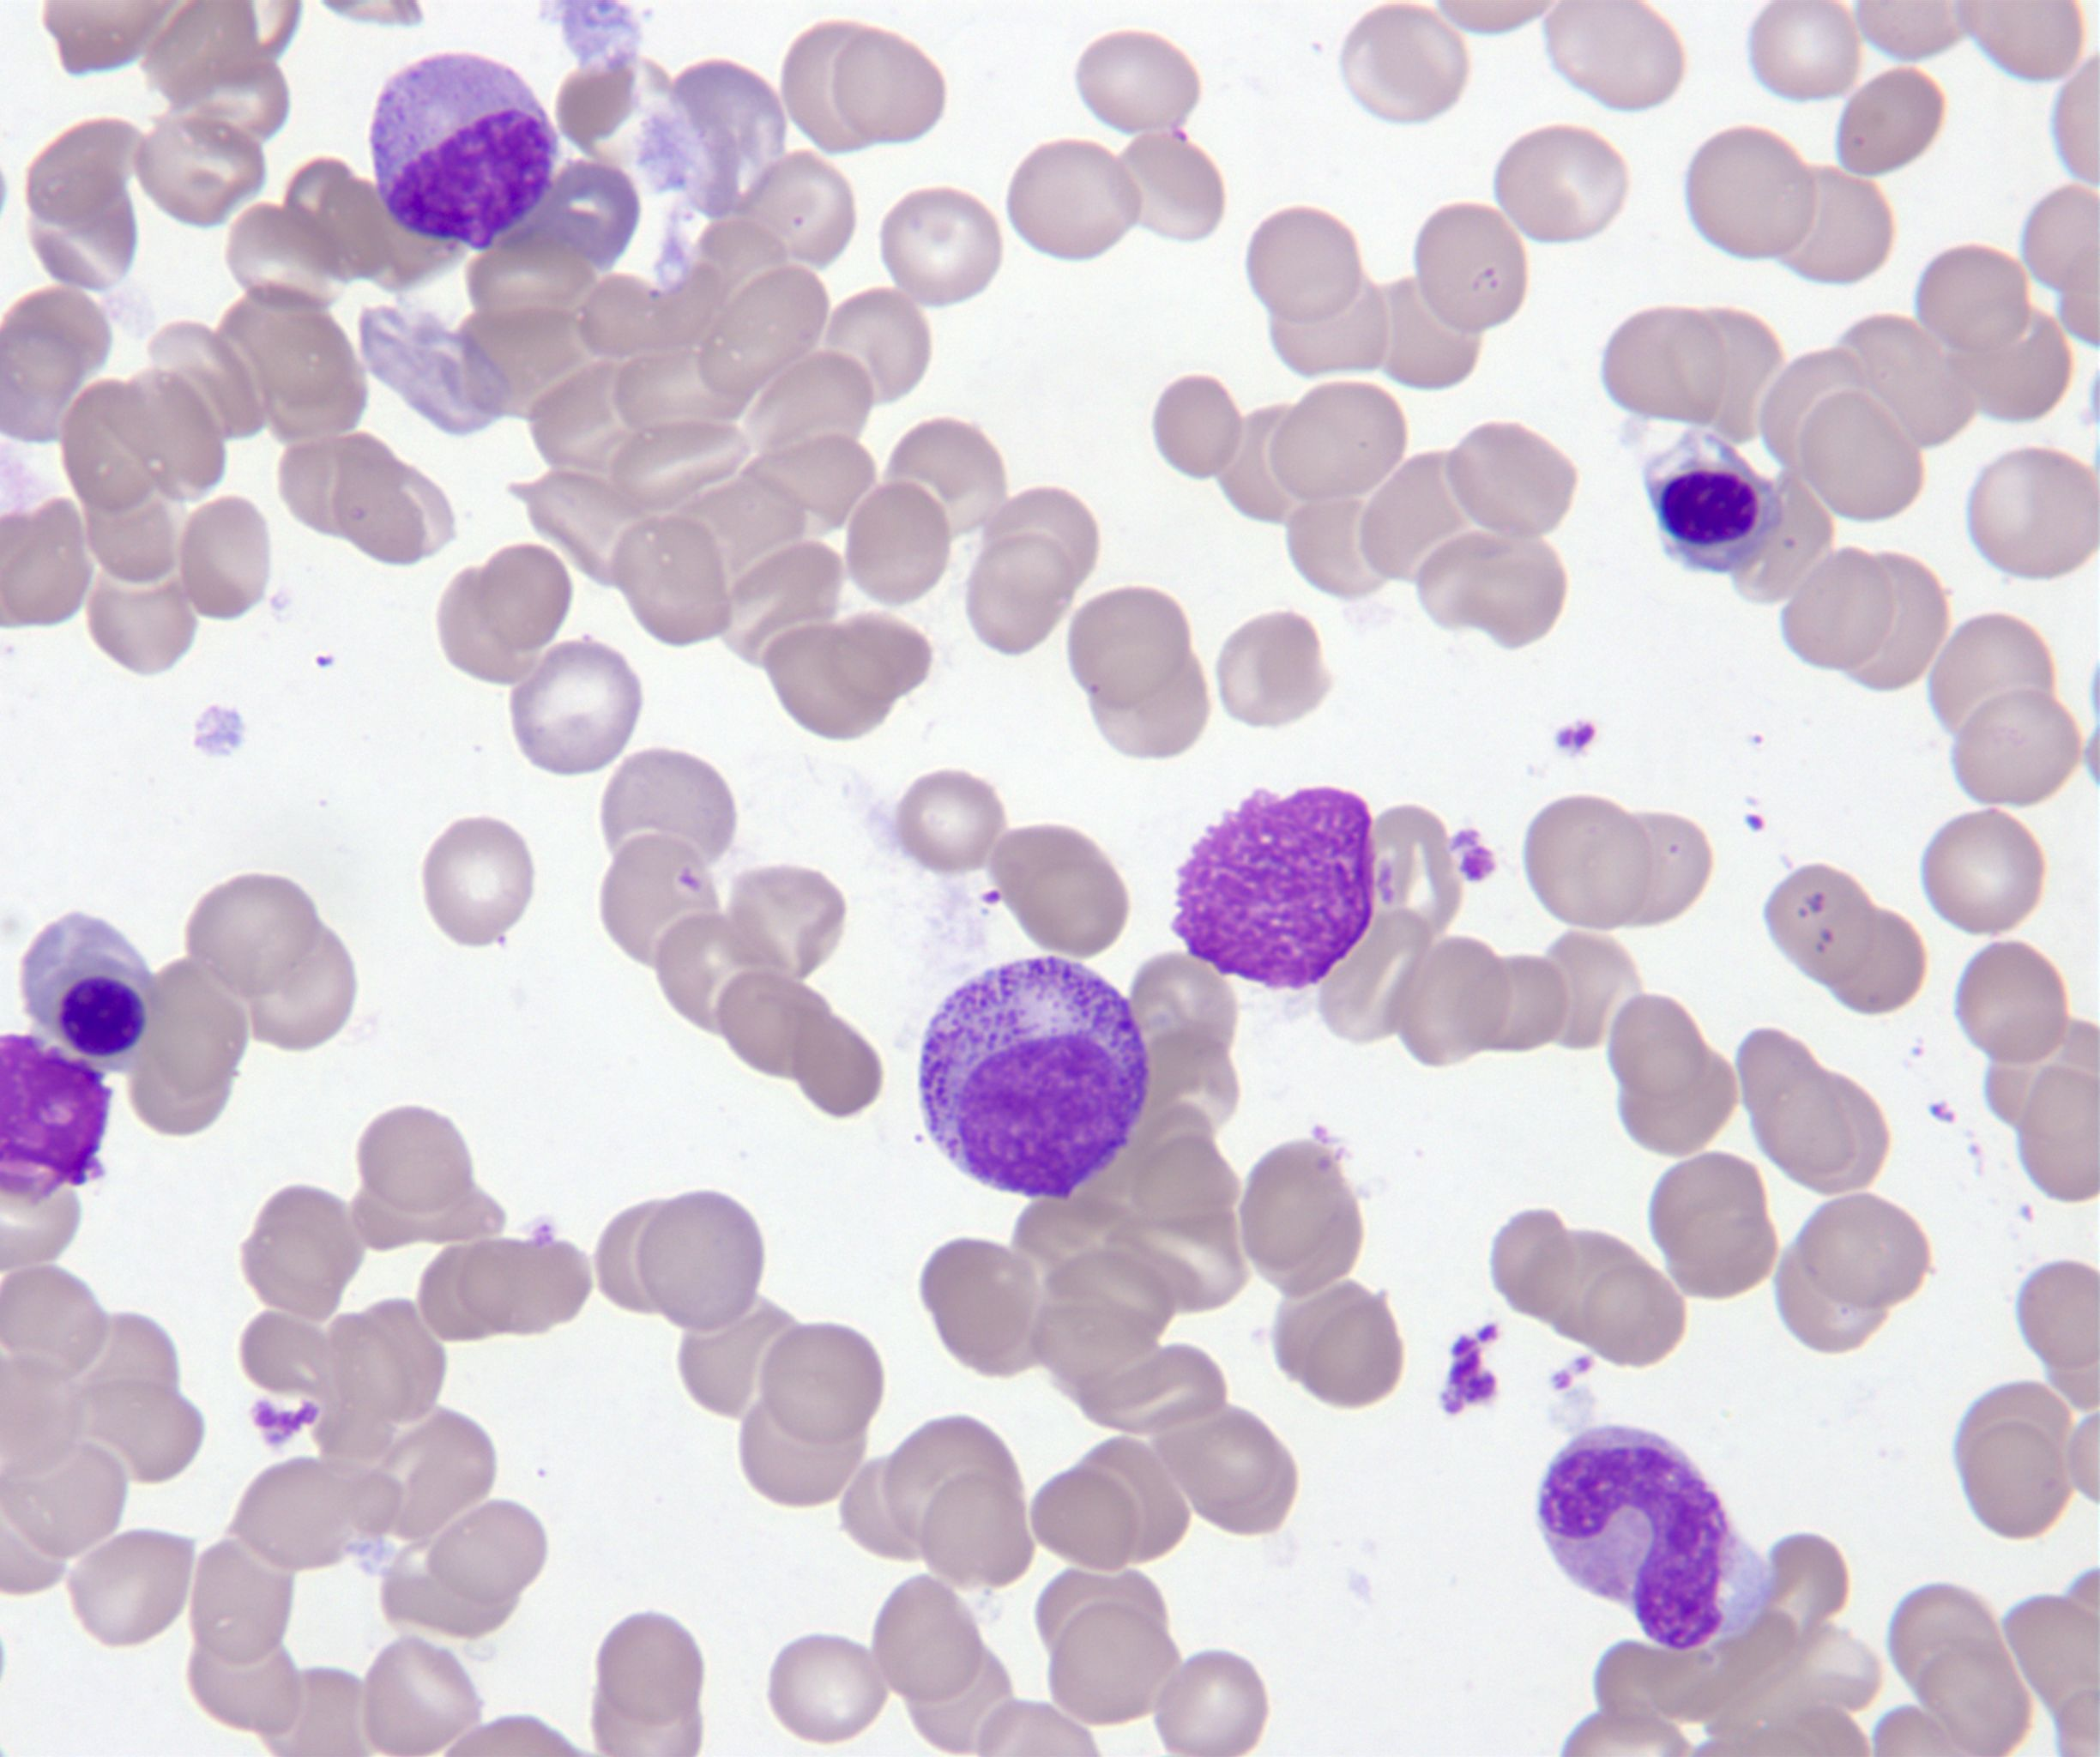24: (16, 906, 164, 1071), (1640, 422, 1790, 581)
3: (912, 951, 1151, 1204), (366, 49, 560, 251)
4: (1531, 1419, 1790, 1661)
x: (1162, 776, 1381, 1000)
